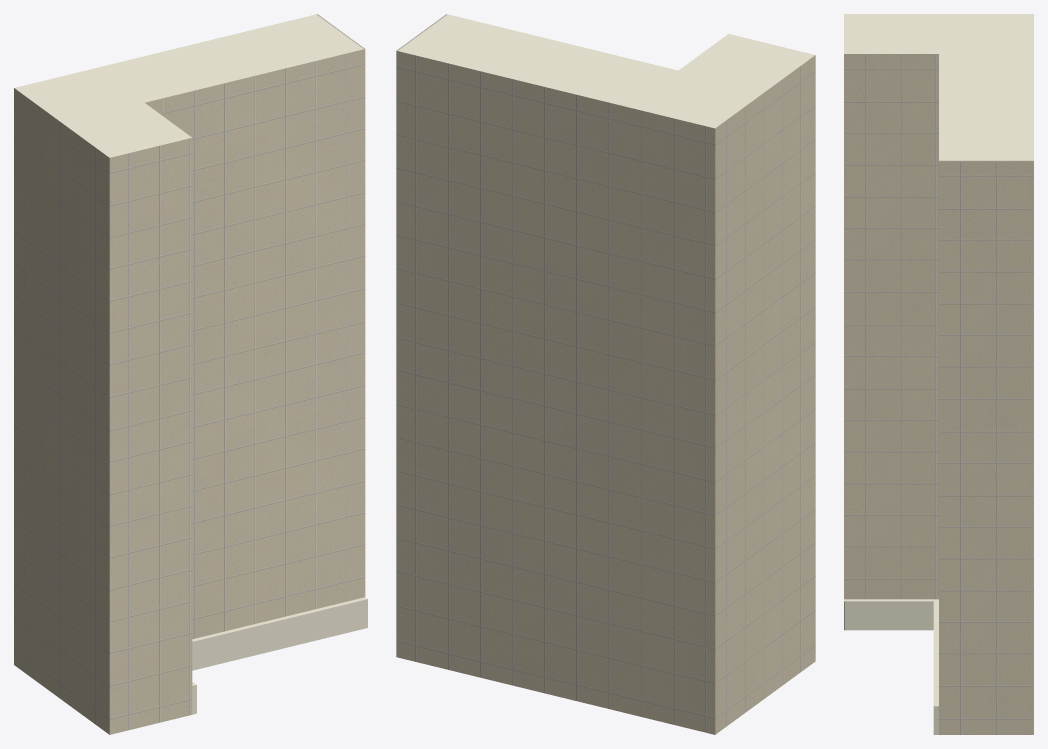
The model's file is LeftCornerWall.fbx.
3 renders of one model, left to right at view 1: azimuth 30°, elevation 25°; view 2: azimuth 150°, elevation 25°; view 3: azimuth 270°, elevation 25°, orthographic. The views are drawn at different scales.
Visible parts, largest first — view 1: Left Corner Wall; view 2: Left Corner Wall; view 3: Left Corner Wall.
Boxes of the visible parts, <box> form: Left Corner Wall: <box>14,14,367,734</box>; Left Corner Wall: <box>396,14,815,734</box>; Left Corner Wall: <box>844,14,1033,734</box>.
Bounding box in the file's own units: 220 × 400 × 120.
Materials: 1 (1 with a texture image).
